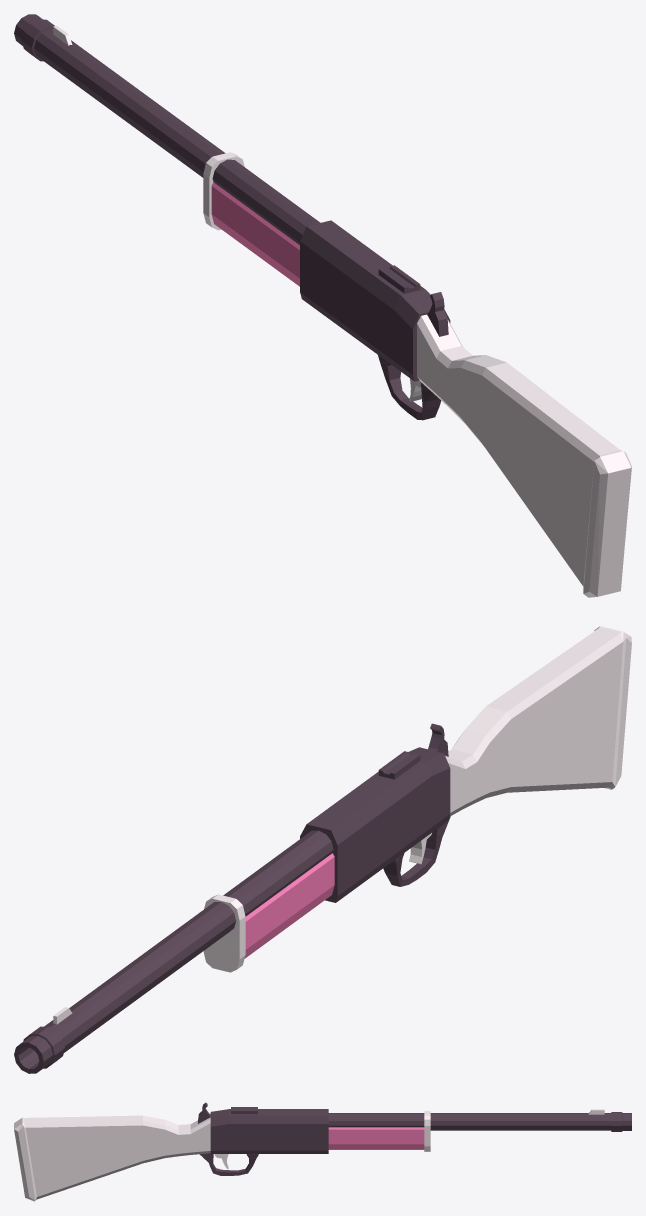
File: Shotgun_4.obj
The picture shows the model from 3 angles, top to bottom: view 1: azimuth 30°, elevation 25°; view 2: azimuth 150°, elevation 25°; view 3: azimuth 270°, elevation 25°; orthographic projection. The views are drawn at different scales.
Visible parts, largest first — view 1: Body, Hardware, Grip; view 2: Hardware, Body, Grip; view 3: Body, Hardware, Grip.
Boxes of the visible parts, box(x1,y1,x2,y2) form: Body: box(53, 25, 631, 597); Hardware: box(14, 14, 450, 420); Grip: box(211, 182, 299, 286); Hardware: box(14, 723, 450, 1073); Body: box(53, 626, 631, 1024); Grip: box(244, 853, 334, 958); Body: box(14, 1109, 604, 1201); Hardware: box(198, 1102, 631, 1175); Grip: box(328, 1127, 424, 1149).
Bounding box in the file's own units: 0.1902 × 0.8844 × 5.2.
